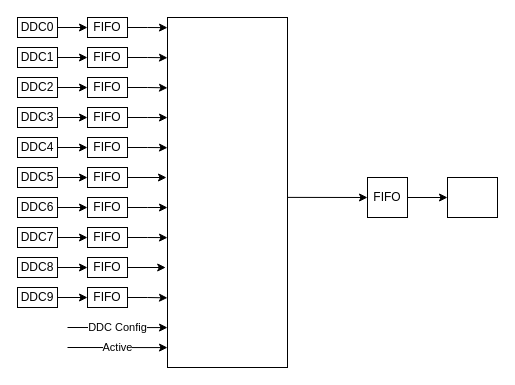
Image size: 515x385. Some labels were removed from this diagram. The centre of each missing label's shape, as x and y in pixels:
Multiplexer: the point at 227,192
Stream Reader: the point at 472,197
